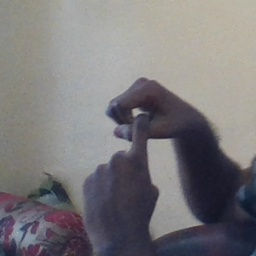Q: (79, 77, 186, 221)
